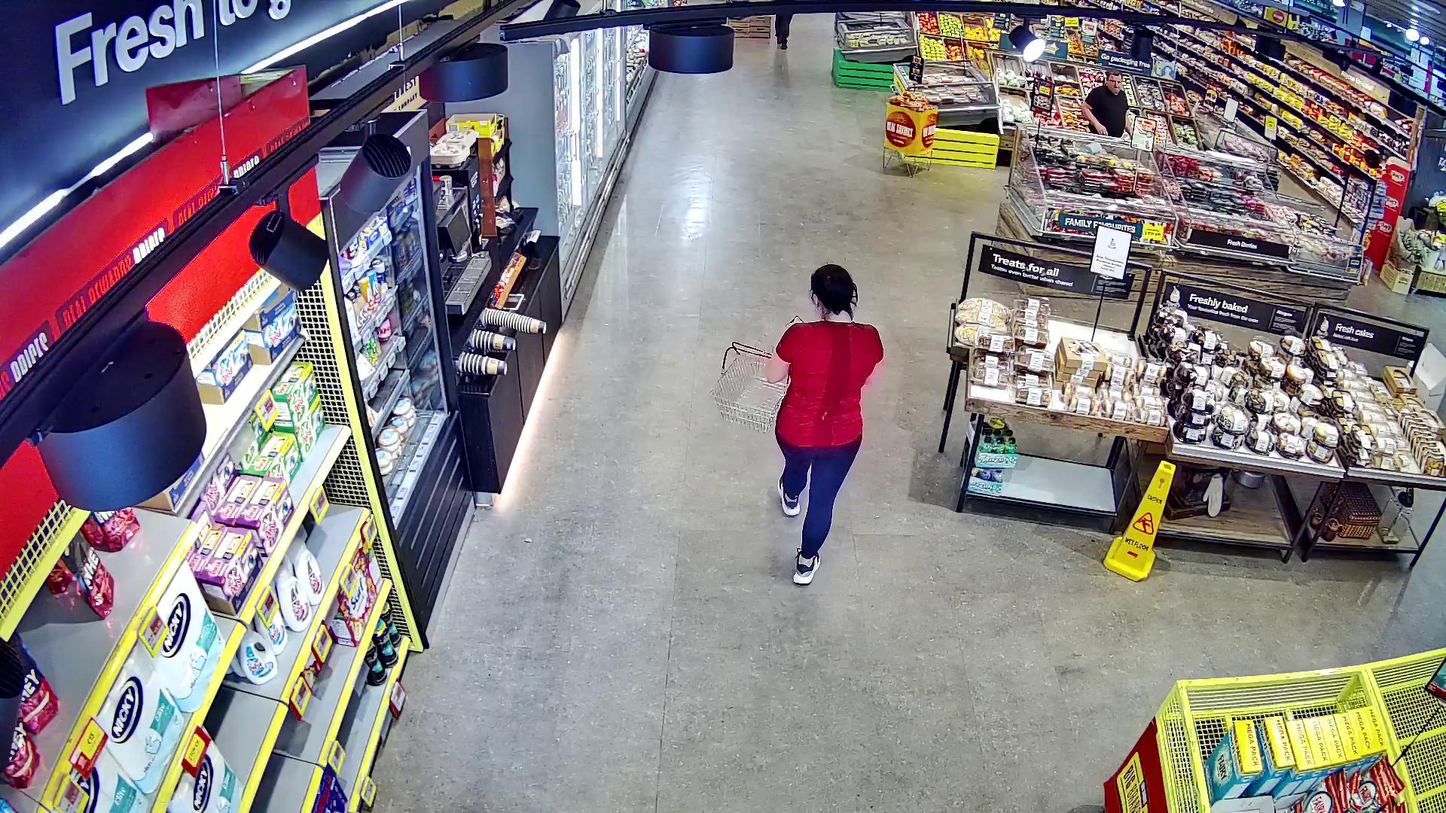empty-basket: (710, 342, 790, 433)
person: (775, 263, 884, 584)
person-with-empty-basket-trolly: (710, 262, 884, 585)
